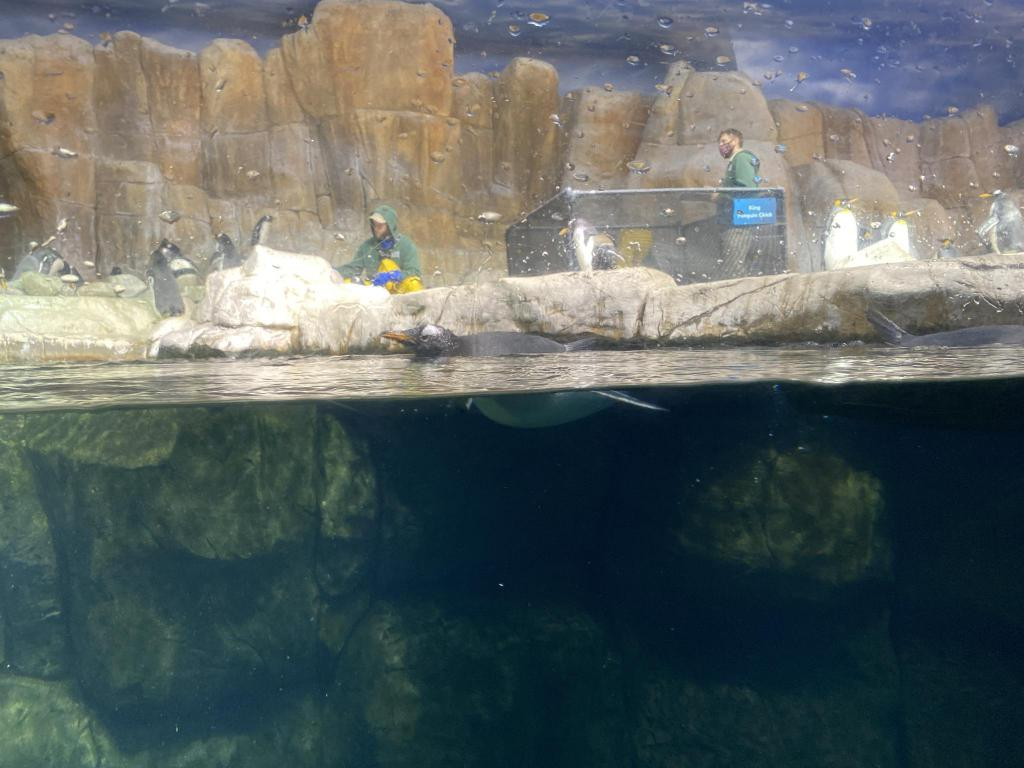penguin: (377, 322, 669, 436), (764, 304, 1024, 432), (559, 219, 625, 273), (977, 190, 1023, 256), (820, 198, 862, 270), (15, 242, 79, 286), (146, 251, 184, 319), (884, 208, 928, 262), (204, 232, 238, 272), (159, 237, 195, 274), (252, 212, 274, 246)
